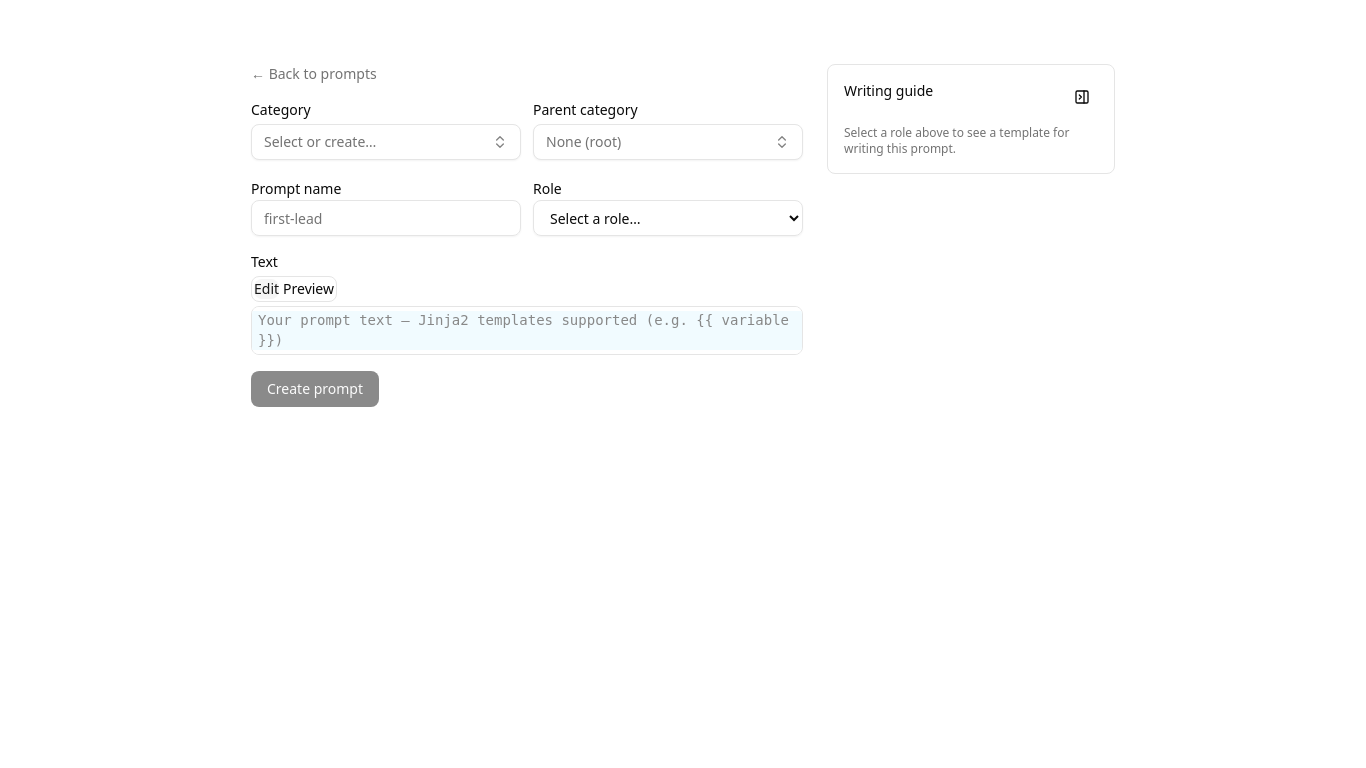
Scenario: PromptForm (create mode) › shows inline text error on 422 Jinja2 syntax failure
Click the dropdown named "Category". click: click(320, 142)
box: [251,124,521,160]
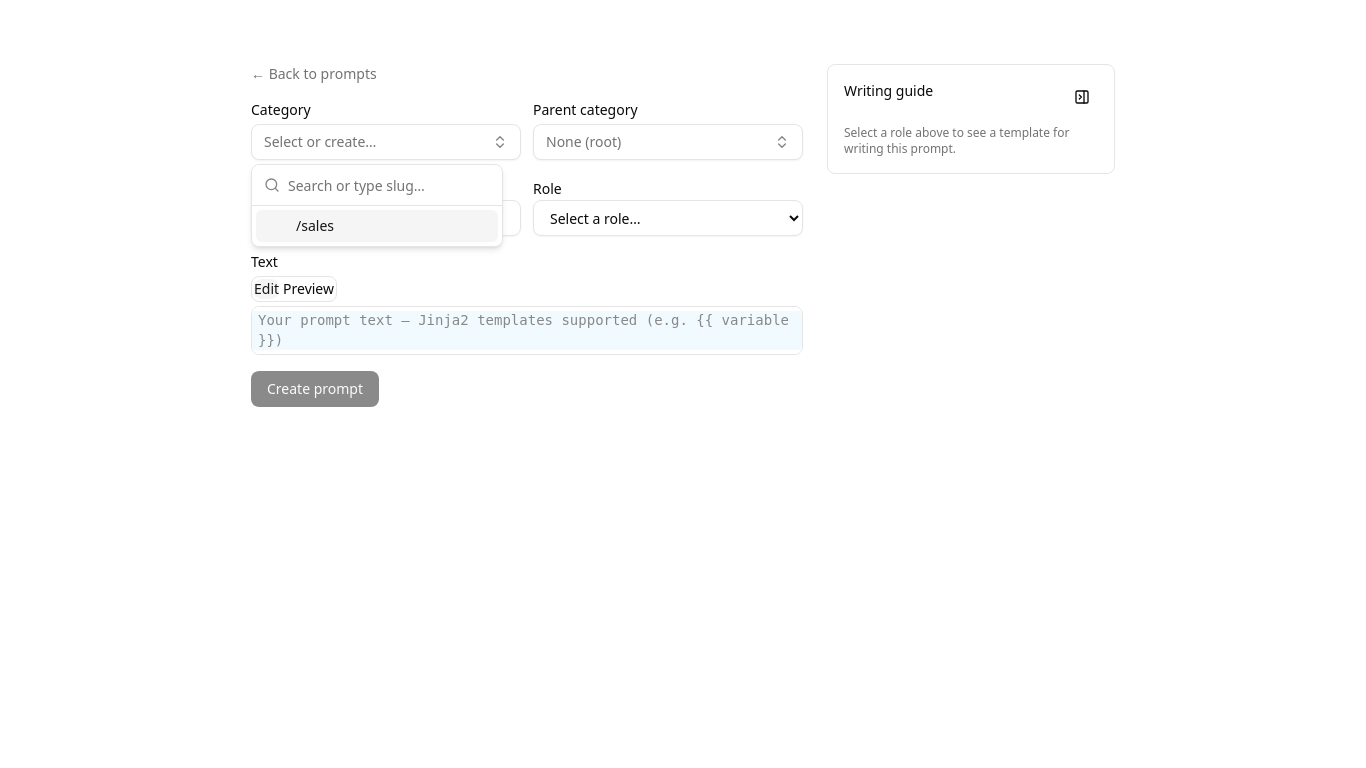
Click the option "/sales". click: click(377, 226)
box: [256,210,498,242]
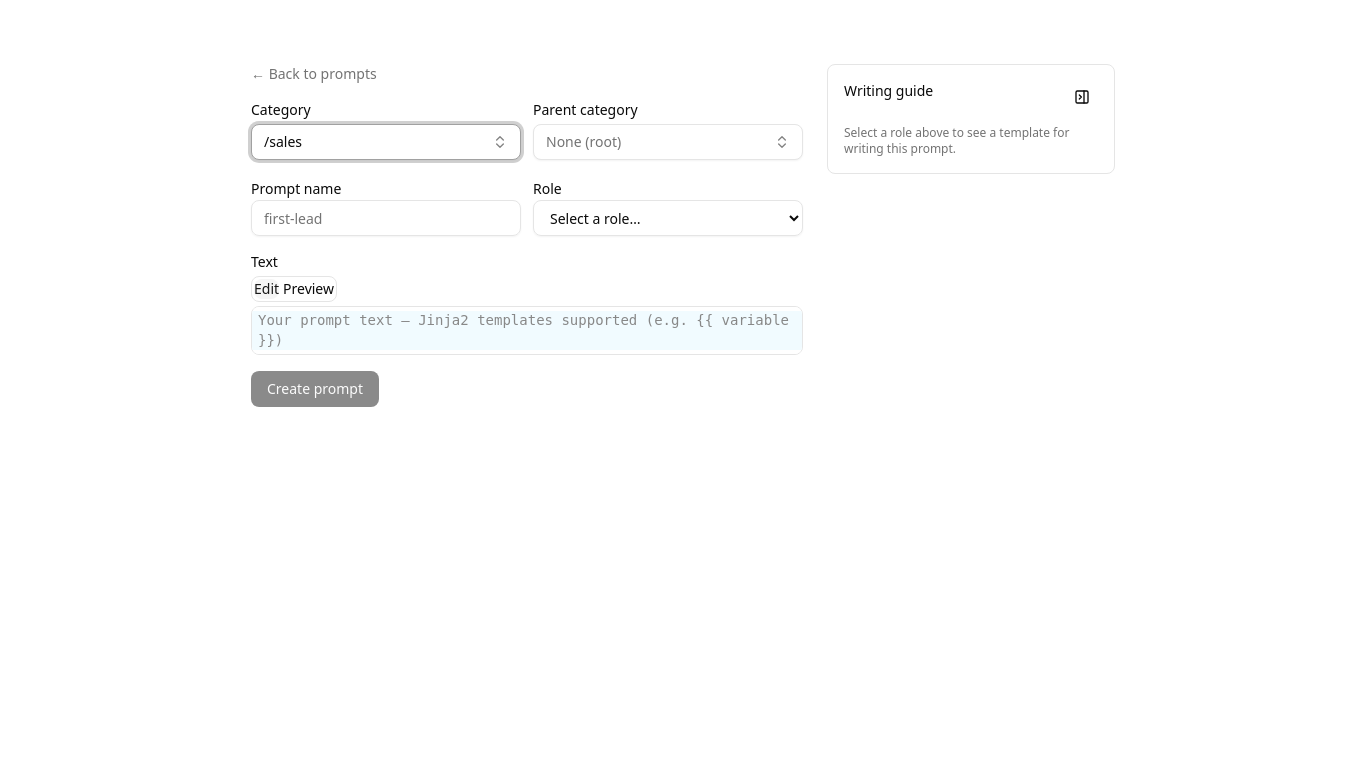
Type "my-prompt" into the field labelled "Prompt name". click: (386, 218)
box: [251,200,521,236]
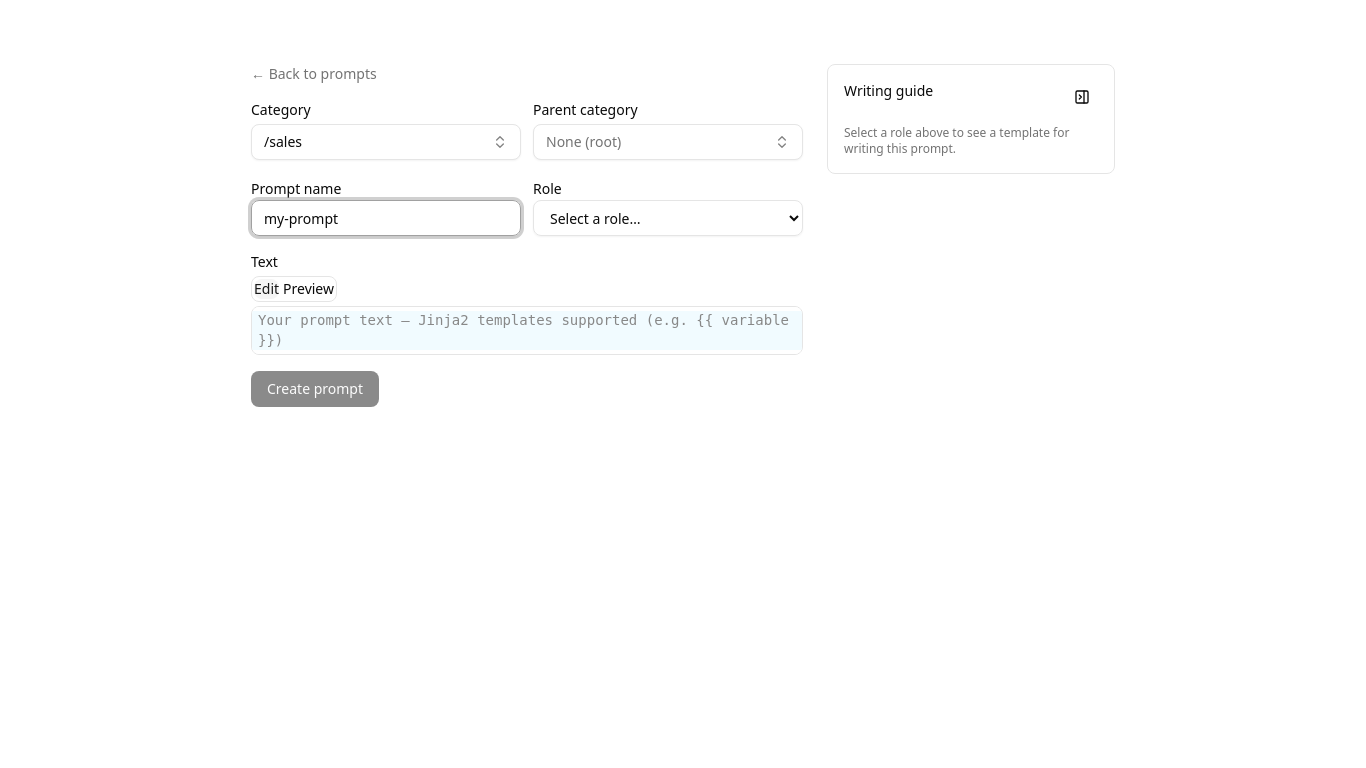
Select "User" in the dropdown labelled "Role". click: (668, 218)
box: [533,200,803,236]
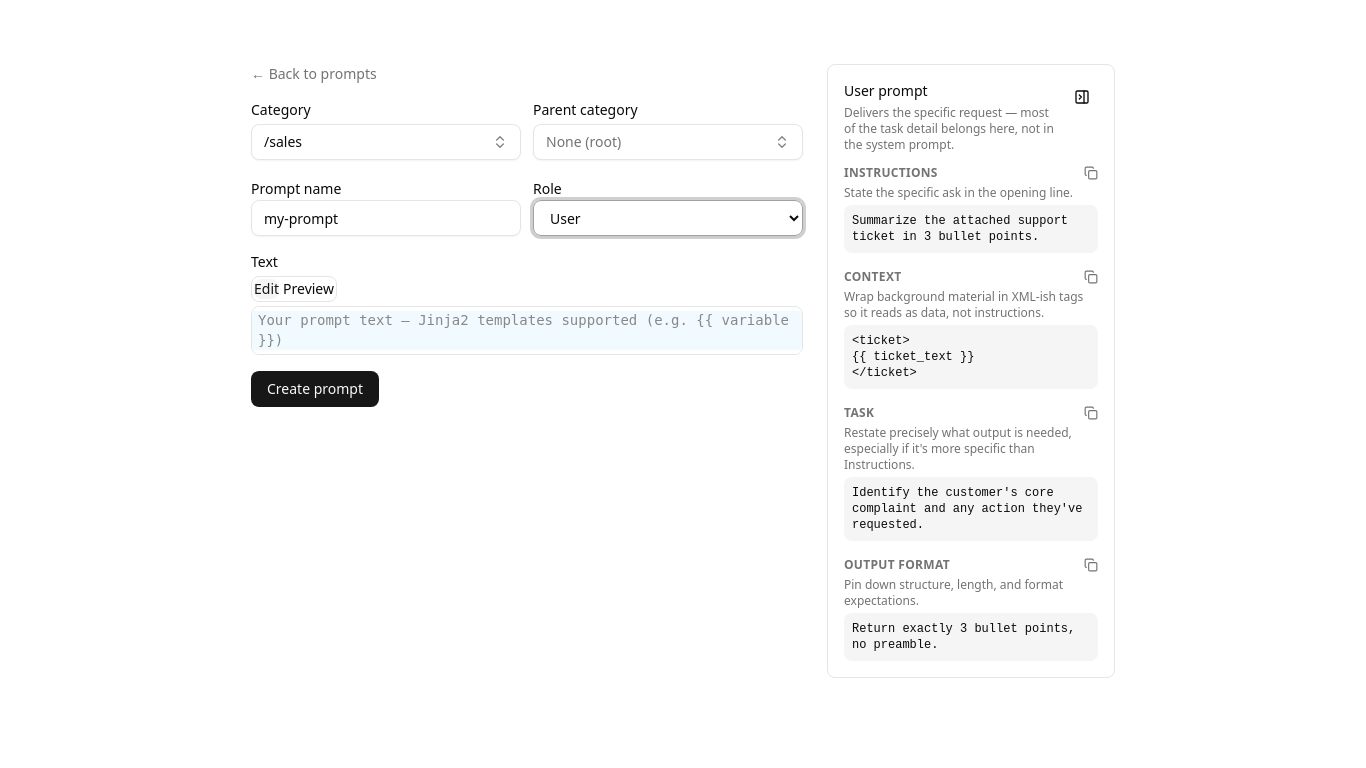
Type "bad template" into the field labelled "text". click: (527, 331)
box: [252,307,802,354]
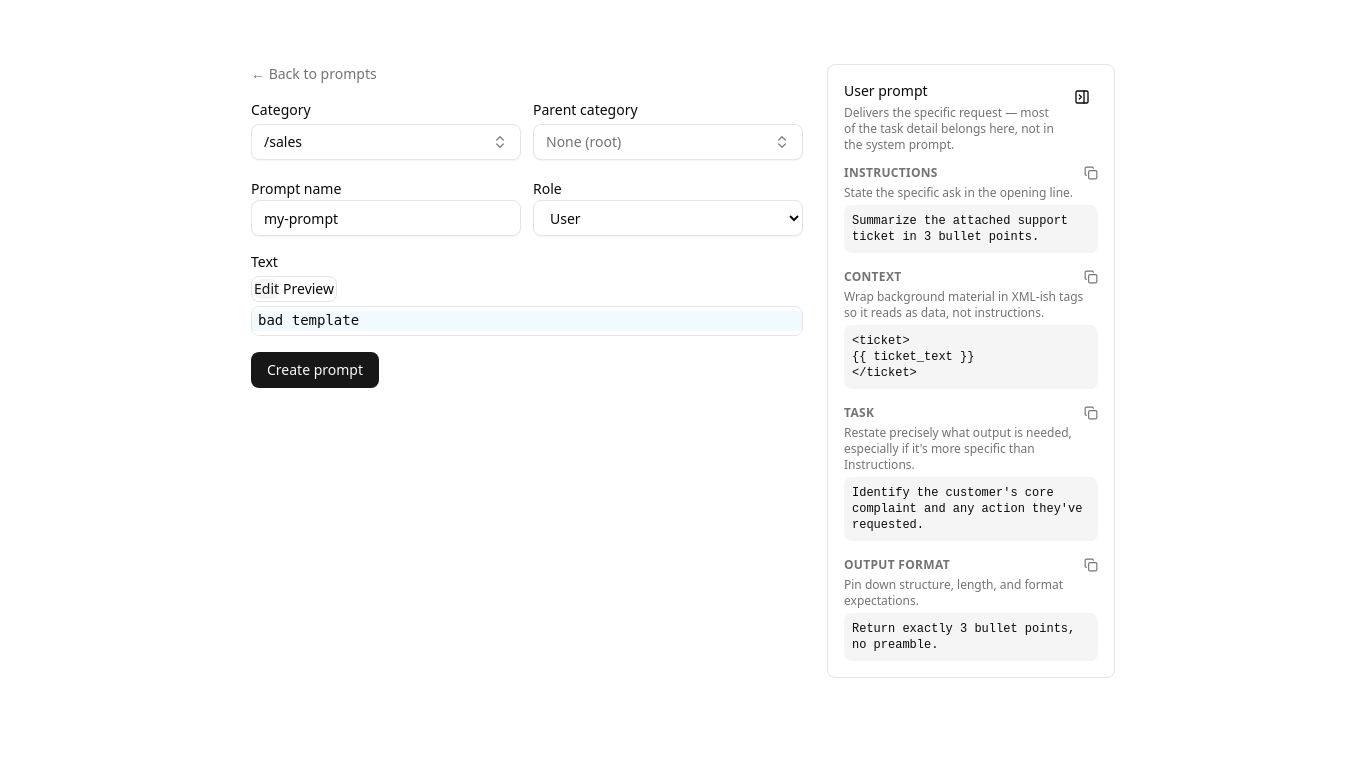
Click the button "Create prompt". click: click(315, 370)
box: [251,352,379,388]
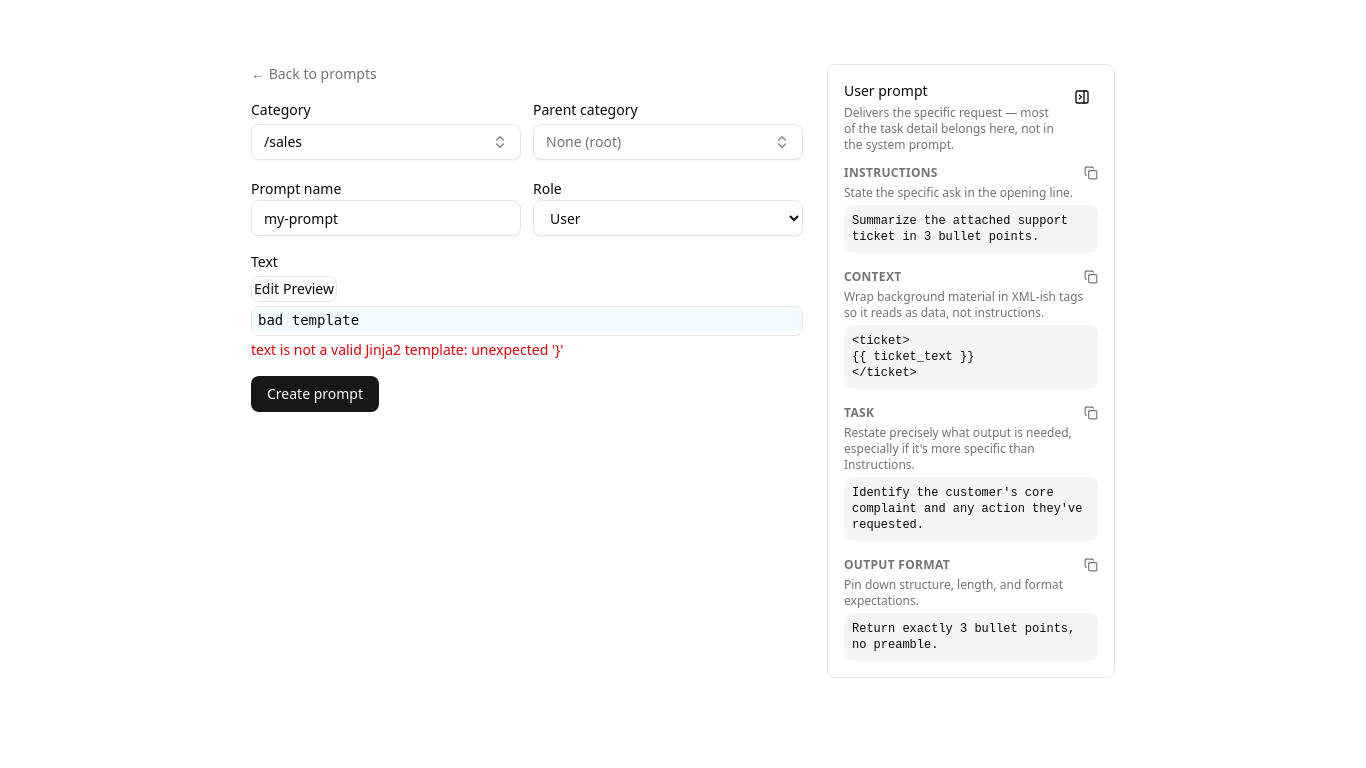
Check: the message shows "text is not a valid Jinja2 template", box [251,340,564,359]
